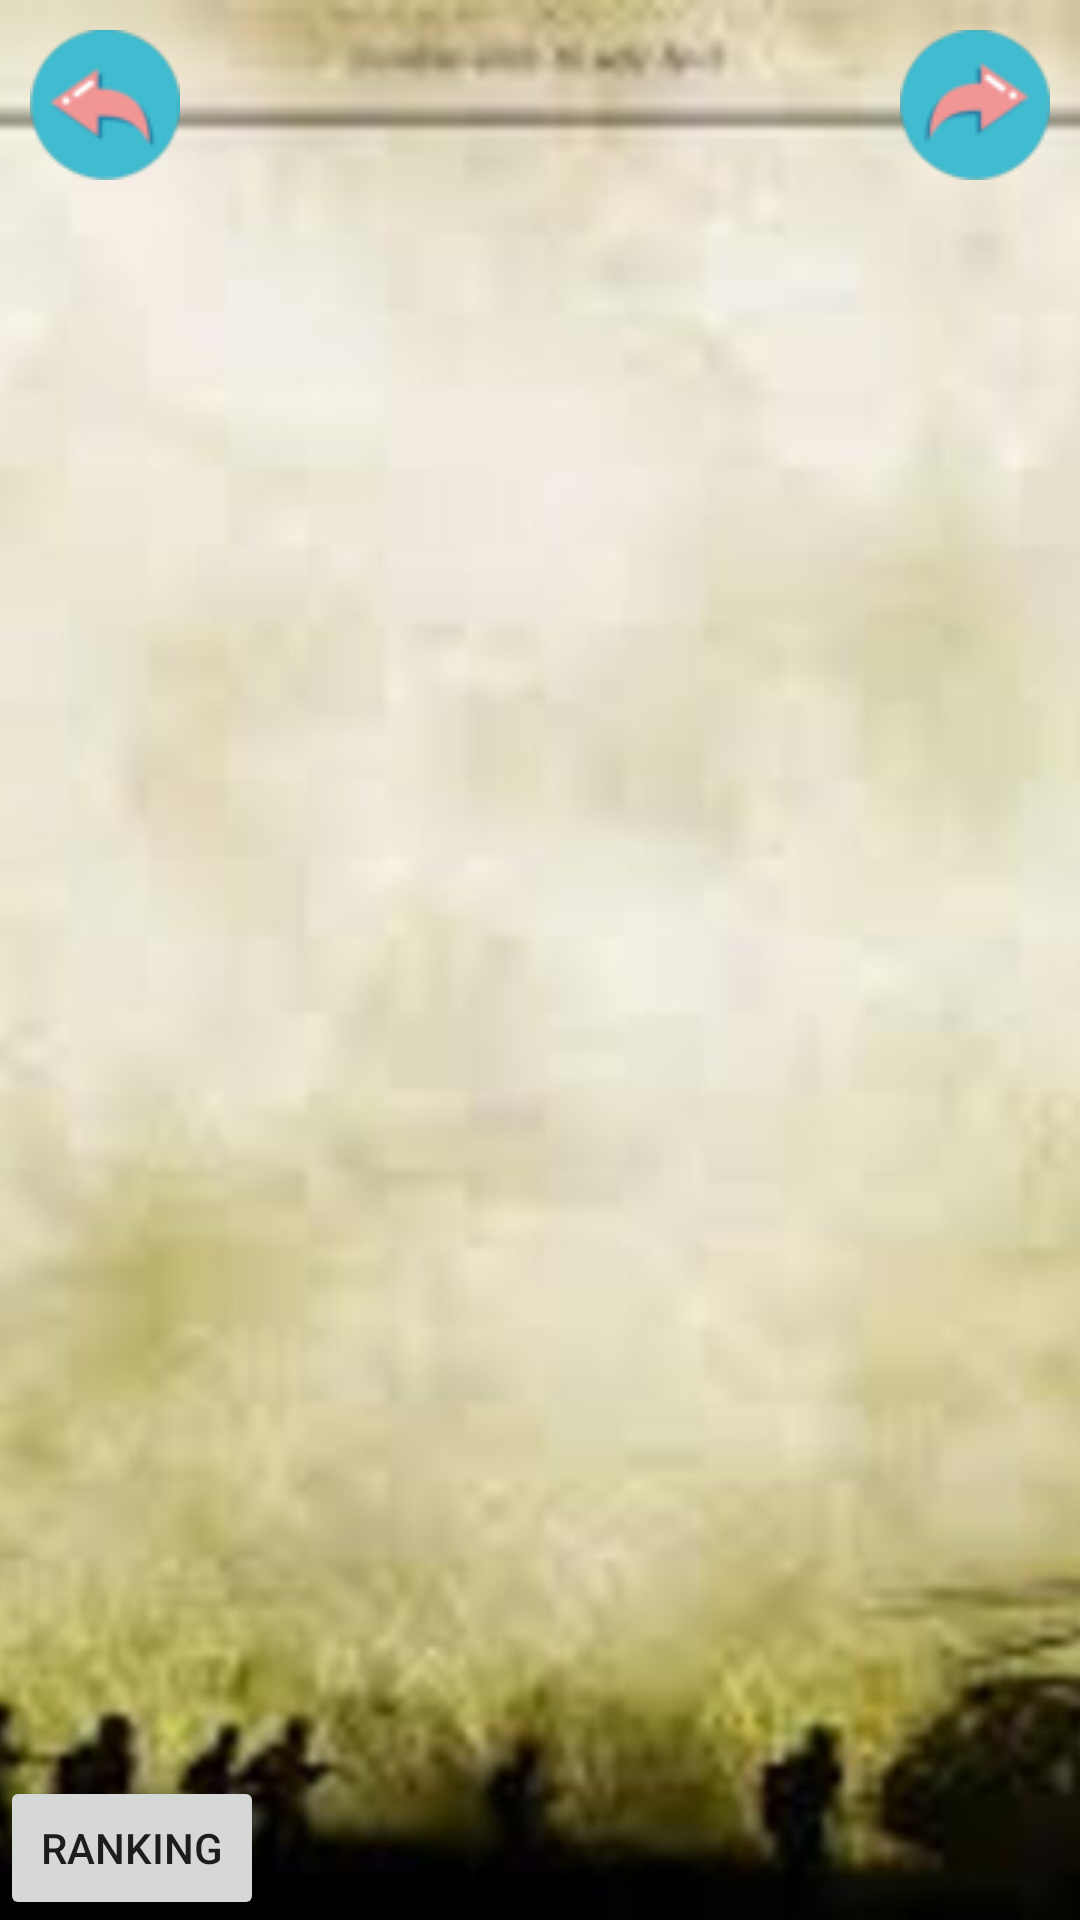

Icons on this 1080px x 1920px Android screen, each with the point to tap as [x,y]:
back: [105,105]
next: [975,105]
